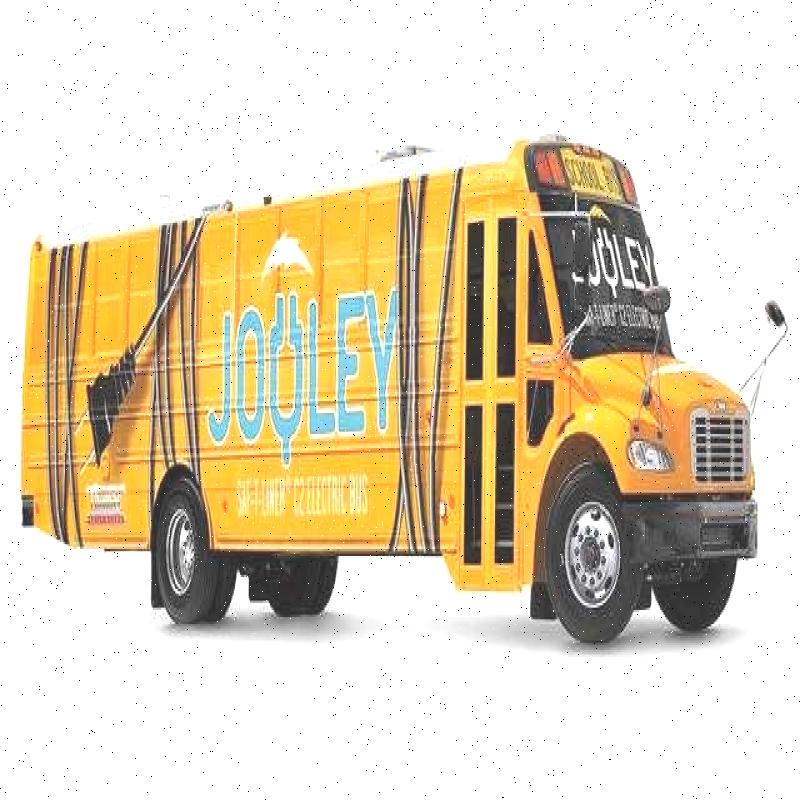bus: (17, 110, 778, 692)
